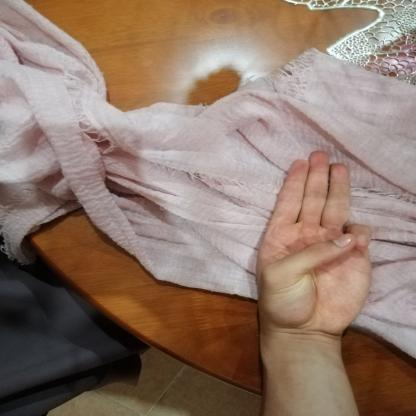THA: (240, 140, 382, 346)
